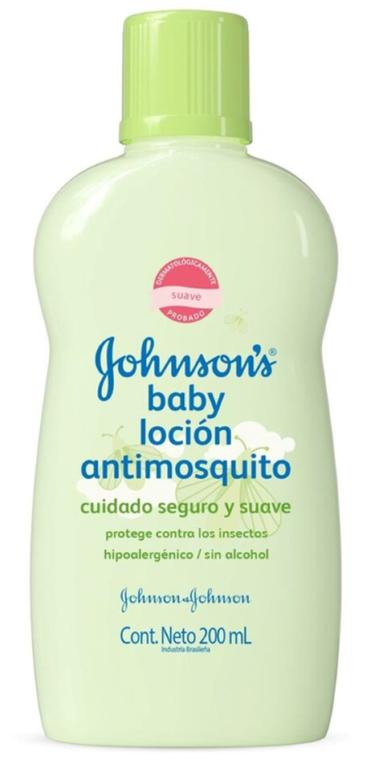brand: (90, 332, 281, 407)
net_weight: (197, 625, 254, 647)
product_name: (70, 384, 305, 487)
